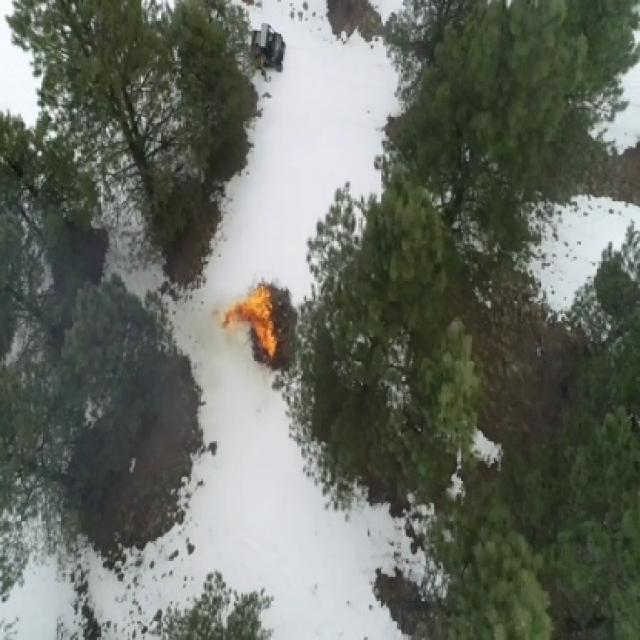Fire: (220, 282, 278, 360)
